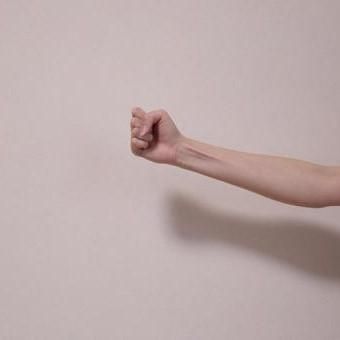gu-: (130, 105, 178, 166)
